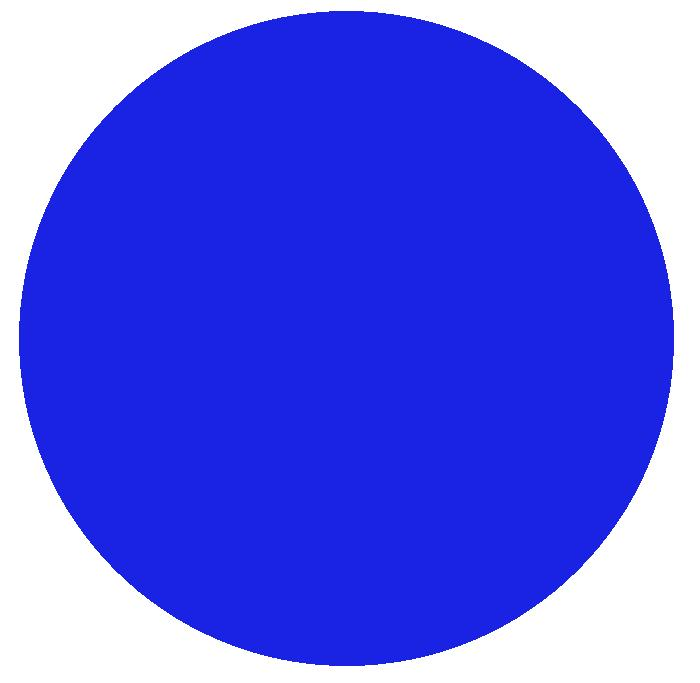blue_circle: (0, 0, 686, 683)
